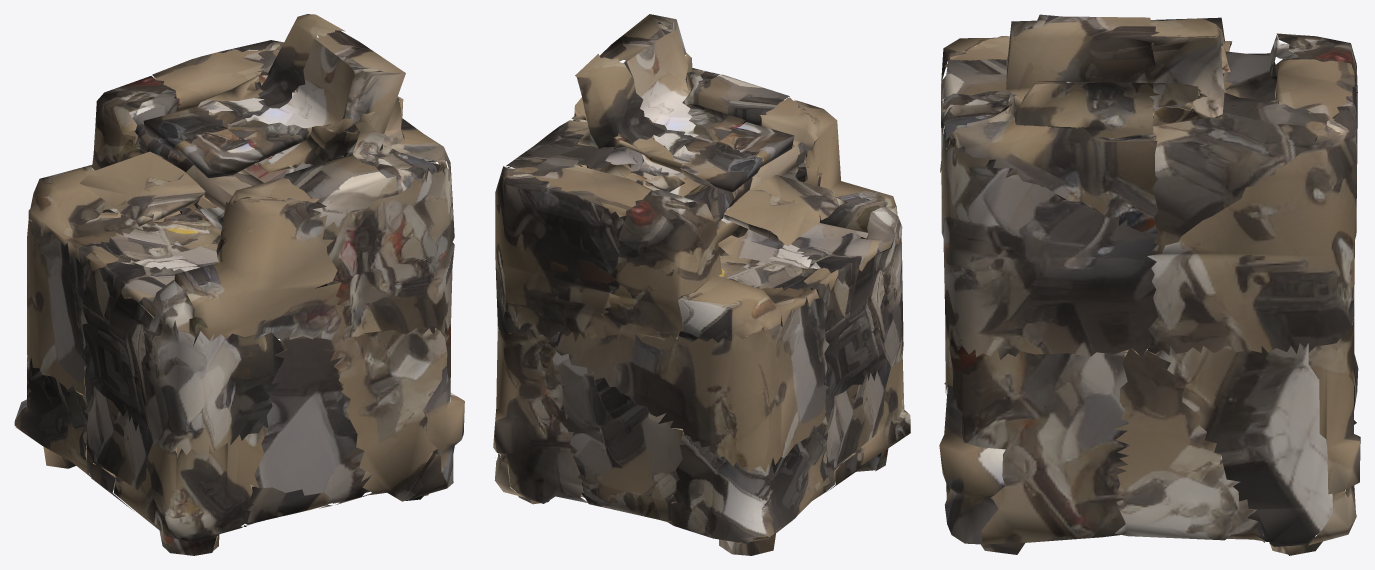
The model's file is office_printer_cartoon_space_station_01.glb.
3 views of the same model, side by side, from view 1: azimuth 30°, elevation 25°; view 2: azimuth 150°, elevation 25°; view 3: azimuth 270°, elevation 25° (orthographic). The views are drawn at different scales.
Parts seen in each view (by area): view 1: tripo_node_382987c4-97e0-443b-8615-351bdfc9f60f; view 2: tripo_node_382987c4-97e0-443b-8615-351bdfc9f60f; view 3: tripo_node_382987c4-97e0-443b-8615-351bdfc9f60f.
Part boxes in pixels (box(x1,y1,x2,y2)): tripo_node_382987c4-97e0-443b-8615-351bdfc9f60f: box(14, 14, 464, 555); tripo_node_382987c4-97e0-443b-8615-351bdfc9f60f: box(493, 14, 910, 555); tripo_node_382987c4-97e0-443b-8615-351bdfc9f60f: box(939, 14, 1360, 555).
Size of the model in its own units: 0.7446 by 1 by 0.7521.
Materials: 1 (1 with a texture image).
